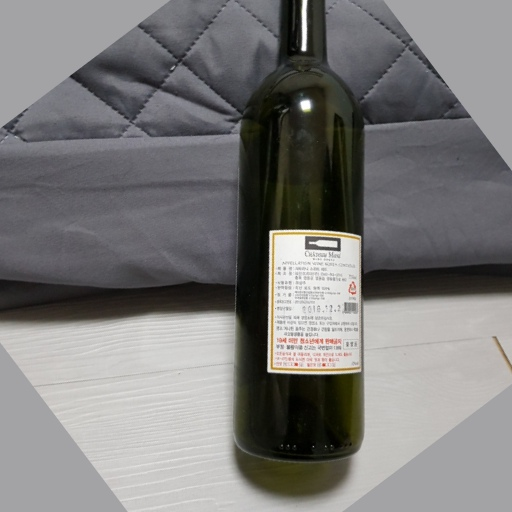Glass_2: (230, 2, 370, 466)
